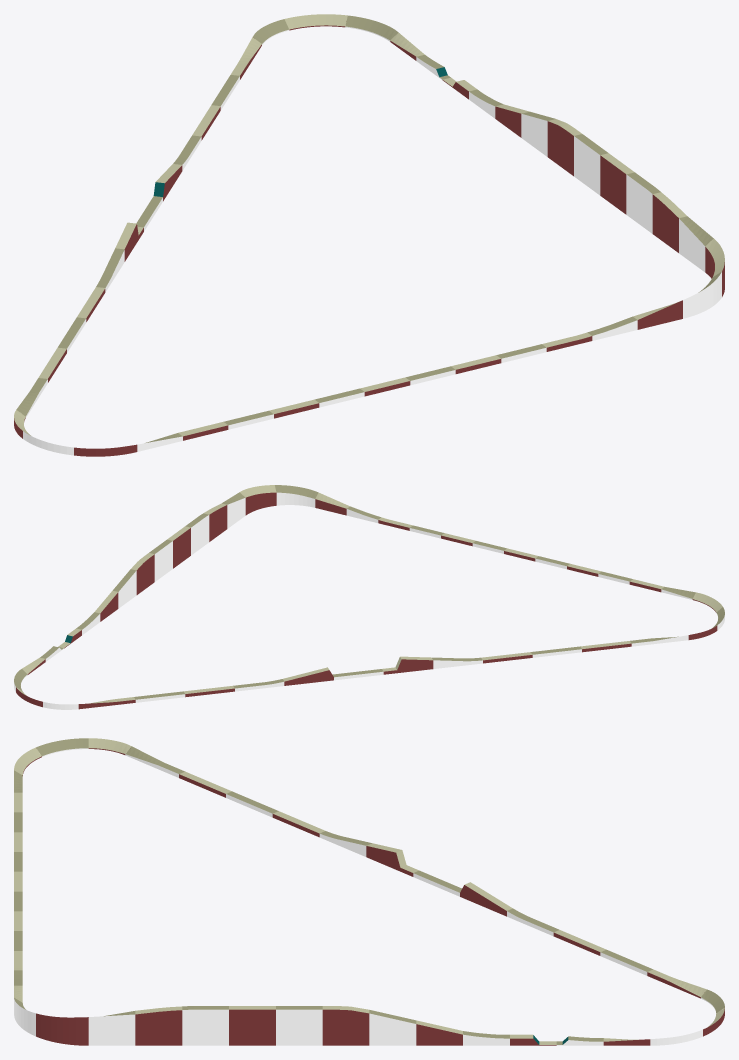
The model's file is little-ramp.glb.
The picture shows the model from 3 angles, top to bottom: view 1: azimuth 30°, elevation 25°; view 2: azimuth 150°, elevation 25°; view 3: azimuth 270°, elevation 25°; orthographic projection. The views are drawn at different scales.
Visible parts, largest first — view 1: little-ramp; view 2: little-ramp; view 3: little-ramp.
Boxes of the visible parts, x1,y1,x2,y2 form: little-ramp: (14, 14, 724, 456); little-ramp: (14, 485, 724, 709); little-ramp: (14, 738, 724, 1045).
Bounding box in the file's own units: 30.38 × 1.7 × 30.38.
